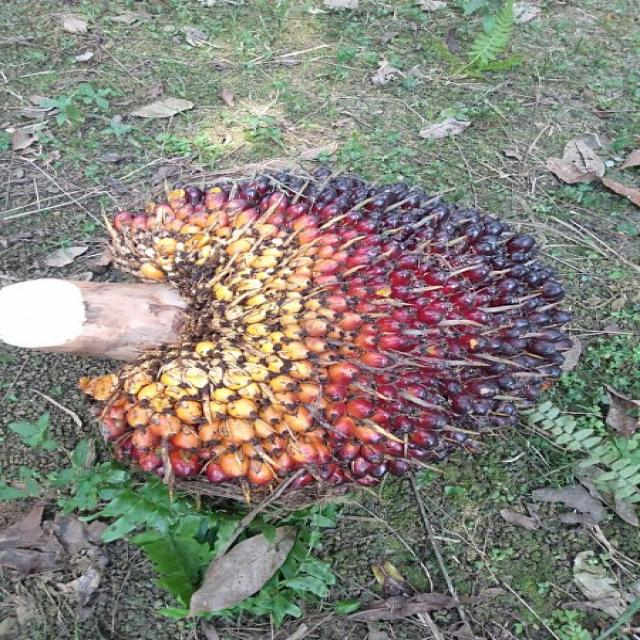fraksi 1: (90, 167, 582, 494)
